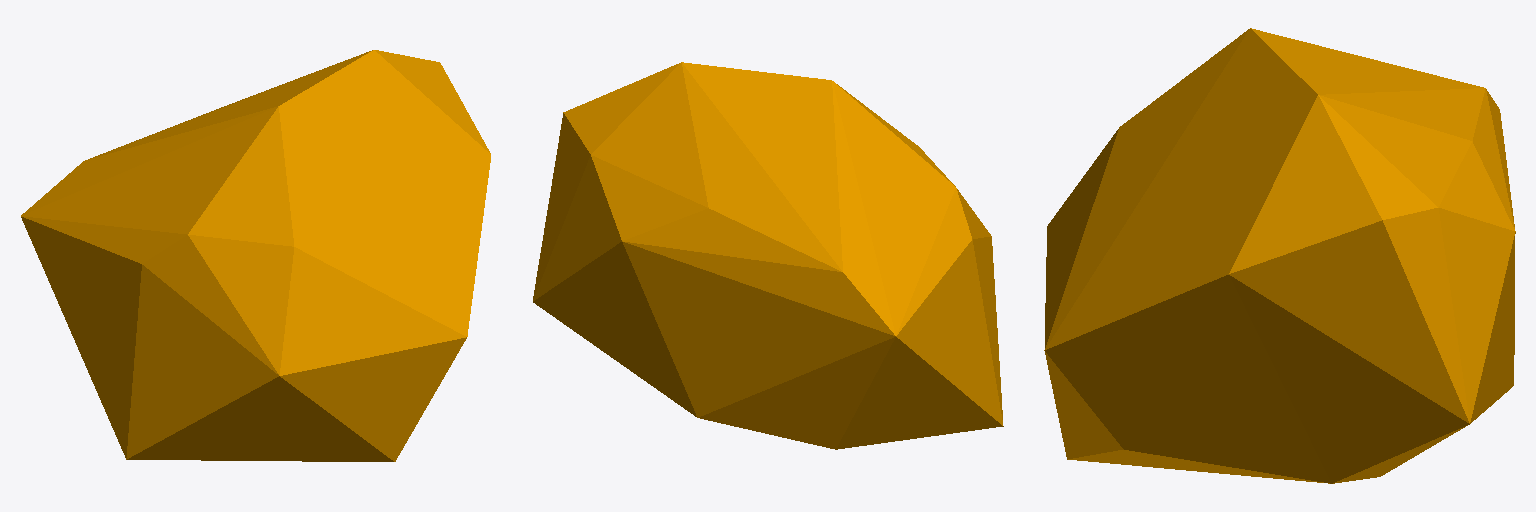
URDF robot description (48_070):
<?xml version="1.0"?>
<robot name="48_070">
  <link name="link">
    <contact>
      <lateral_friction value="0.6"/>
    </contact>
    <inertial>
      <mass value = "0.19728579963102602"/>
      <inertia ixx="5.278269937810617e-05" ixy="3.0693744431659066e-06" ixz="5.908843671479443e-06" iyy="6.241824280282889e-05" iyz="4.37375145928191e-06" izz="6.703088631874133e-05" />
    </inertial>
    <visual name="visual">
      <geometry>
        <mesh filename="48_070.obj"/>
      </geometry>
    </visual>
    <collision name="collision">
      <geometry>
        <mesh filename="48_070.obj"/>
      </geometry>
    </collision>
  </link>
</robot>

--- What the picture shows (computed from the rendered views, not written in the file) ---
The picture shows the robot from 3 angles, left to right: view 1: azimuth 30°, elevation 25°; view 2: azimuth 150°, elevation 25°; view 3: azimuth 270°, elevation 25°; orthographic projection.
Robot: 48_070 — 1 links, 0 joints (none); root link link; default pose: all joints at 0.
Visible links, largest first — view 1: link; view 2: link; view 3: link.
Boxes of the visible links, x1=… form: link: x1=21, y1=50, x2=490, y2=461; link: x1=533, y1=62, x2=1003, y2=449; link: x1=1044, y1=28, x2=1515, y2=483.
Bounding box of the posed robot: 0.0607 × 0.0517 × 0.05 m (x, y, z).
1 mesh visuals loaded from 1 distinct referenced files (1 OBJ).
